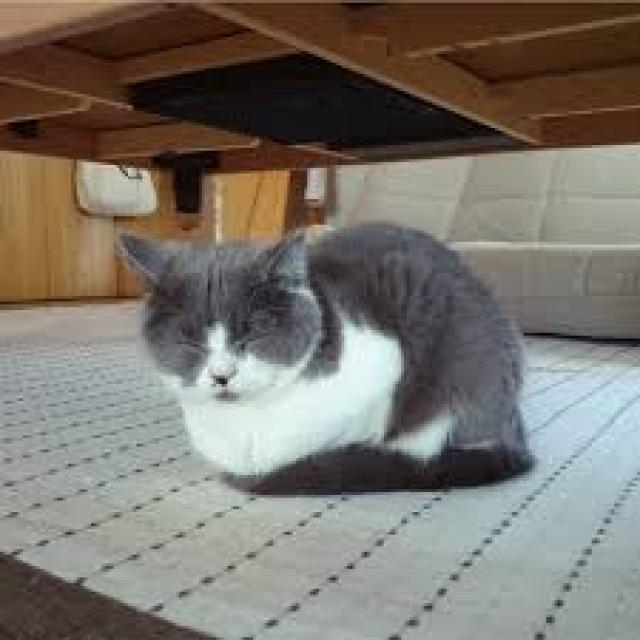cat: (118, 212, 543, 490)
